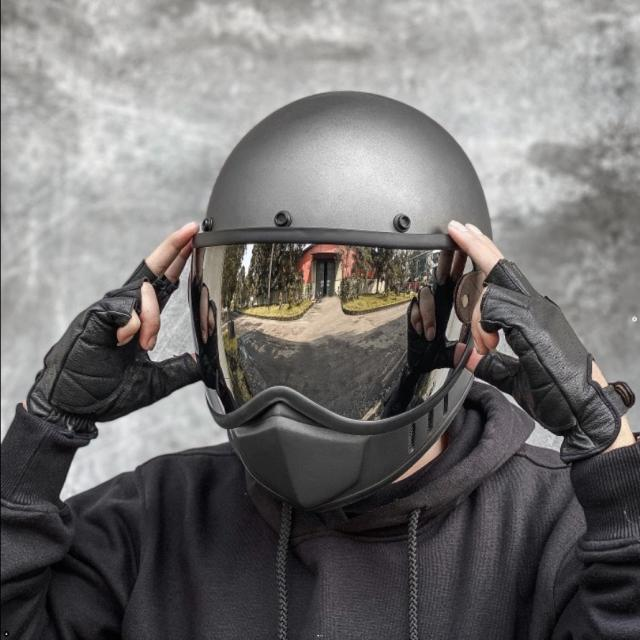helmet: (183, 84, 500, 521)
